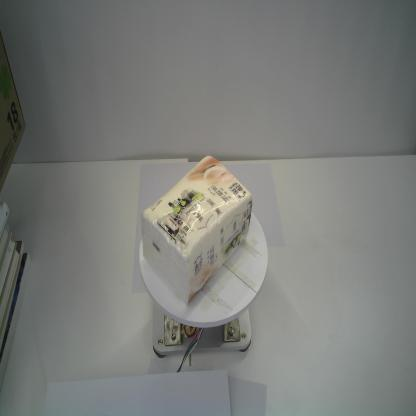Tissue: (140, 154, 254, 306)
